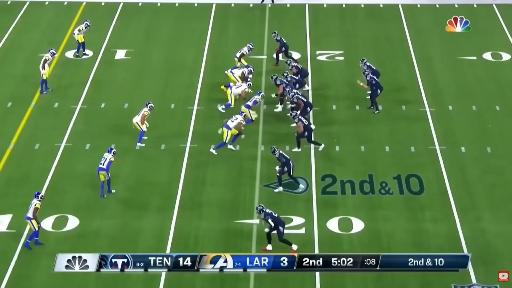Helmet: (105, 148, 118, 157), (244, 65, 255, 75), (255, 204, 265, 214), (35, 191, 43, 201), (271, 146, 280, 154), (145, 102, 153, 110), (246, 42, 254, 50), (238, 112, 247, 119), (245, 81, 254, 88), (286, 59, 295, 66), (84, 20, 91, 27), (49, 49, 56, 55), (258, 92, 264, 99), (271, 31, 277, 38)
Jersey: (262, 209, 284, 228), (292, 91, 312, 109), (295, 116, 312, 133), (98, 153, 114, 171), (229, 82, 249, 96), (291, 63, 308, 79), (363, 62, 379, 78), (366, 74, 382, 90), (276, 151, 291, 168), (226, 115, 244, 129), (27, 199, 40, 218), (288, 75, 305, 89), (133, 108, 150, 122), (40, 54, 53, 72), (245, 95, 261, 108), (73, 24, 87, 38), (232, 68, 251, 78), (275, 36, 288, 49), (274, 78, 289, 89), (235, 47, 249, 58)
Player: (256, 205, 297, 253), (271, 146, 304, 192), (210, 112, 245, 154), (290, 112, 324, 151), (24, 192, 43, 249), (358, 71, 383, 113), (219, 81, 252, 112), (272, 31, 298, 66), (98, 148, 116, 197), (133, 102, 153, 146), (40, 49, 56, 94), (242, 92, 264, 123), (73, 20, 90, 57), (271, 75, 288, 111), (291, 91, 312, 117), (286, 60, 309, 82), (225, 66, 253, 83), (235, 43, 253, 67), (360, 59, 380, 79), (283, 72, 306, 89), (261, 0, 265, 3)
